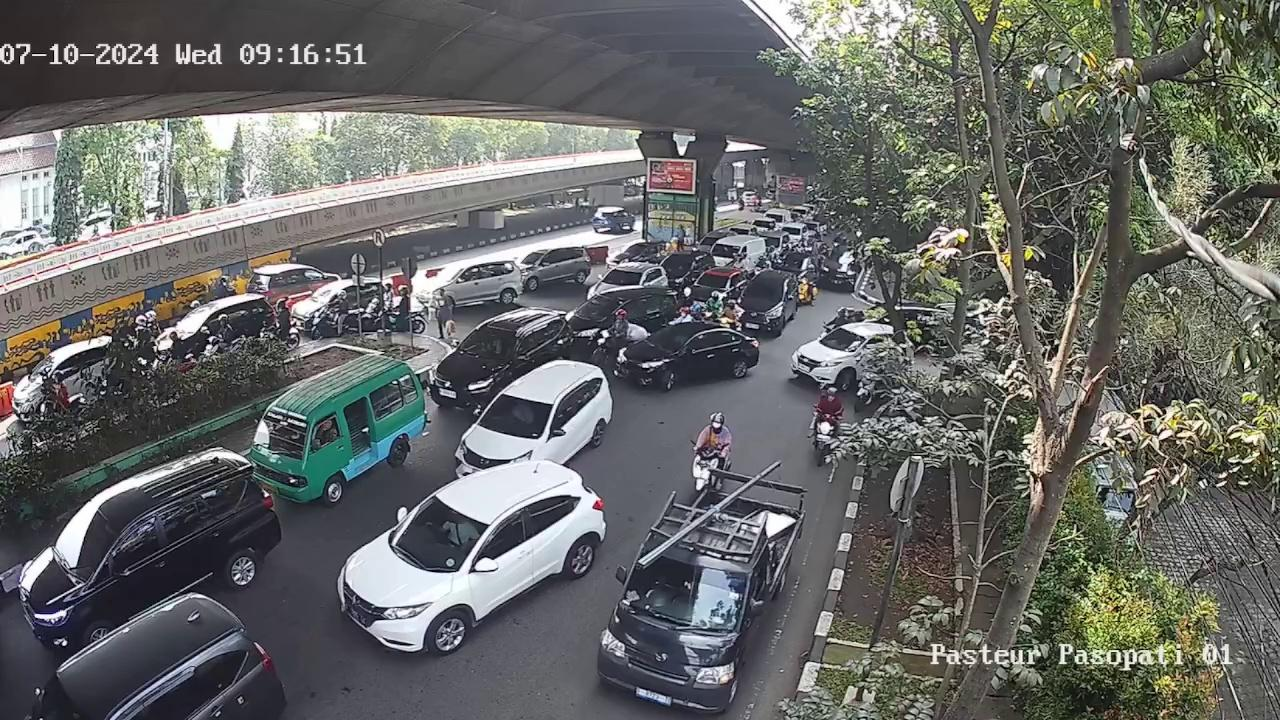pakai: (439, 511, 475, 547)
tidak-pakai: (510, 400, 534, 427)
windshield: (628, 551, 749, 632), (394, 491, 488, 568), (53, 505, 122, 570), (479, 394, 550, 437), (255, 413, 310, 456), (456, 325, 513, 359)
